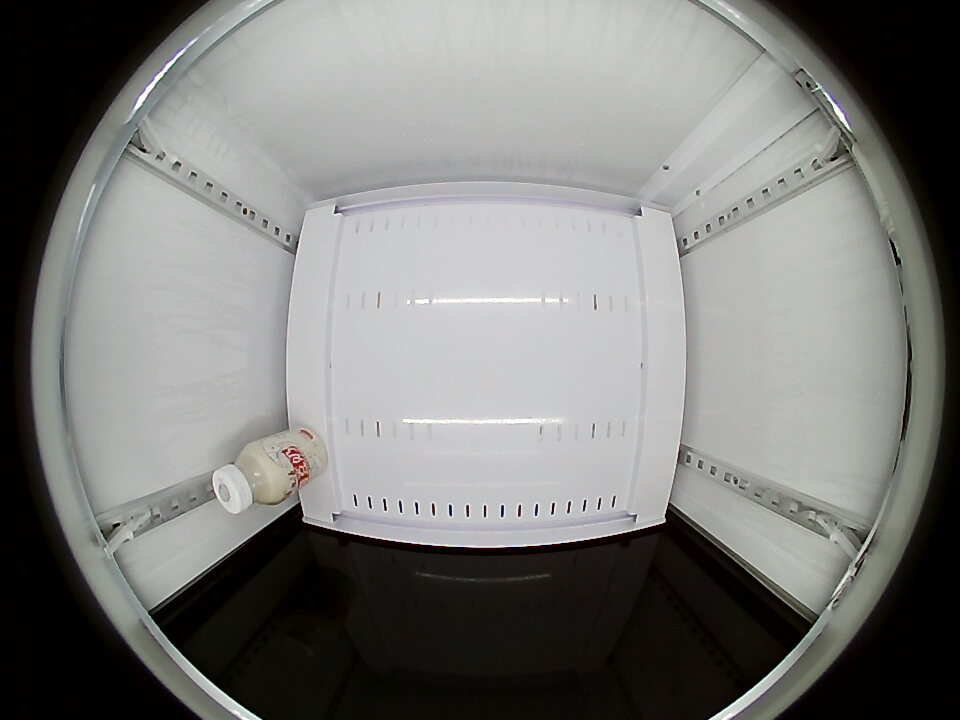weiweidounai: (211, 441, 288, 514)
